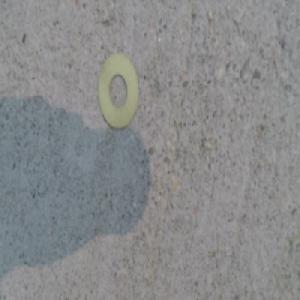Washer: (95, 54, 138, 132)
